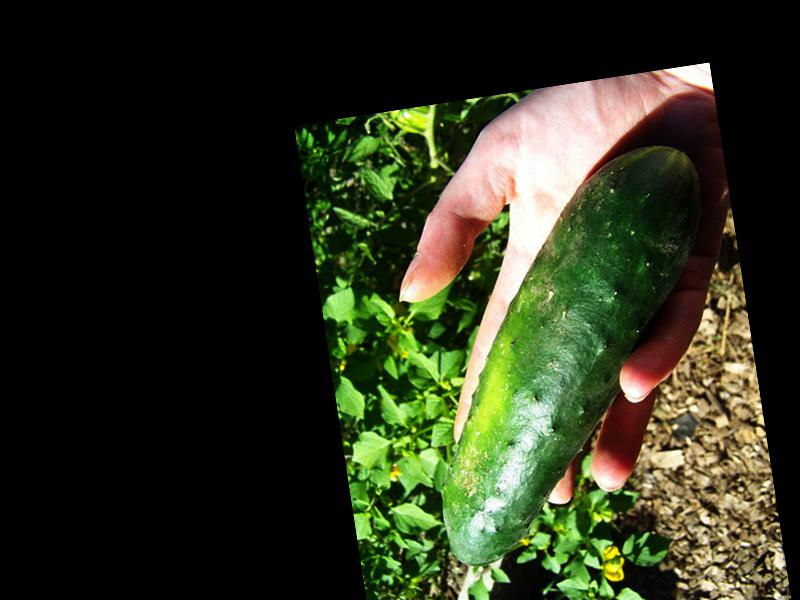Cucumber: (394, 141, 749, 571)
